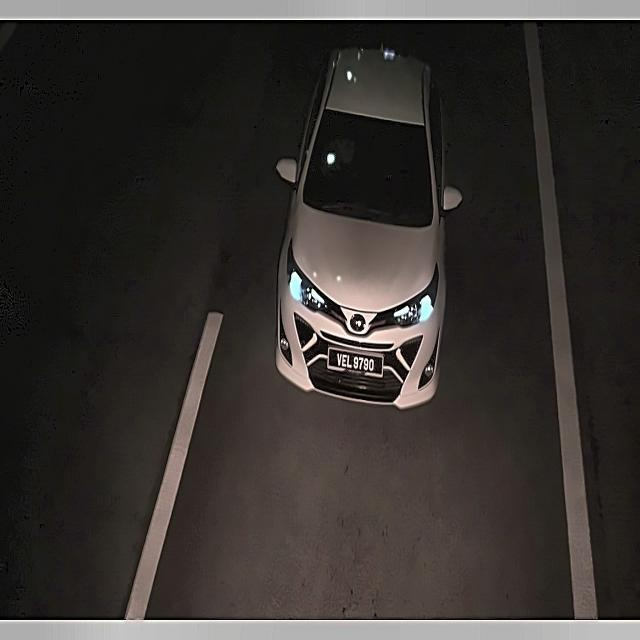car: (327, 345, 384, 381)
